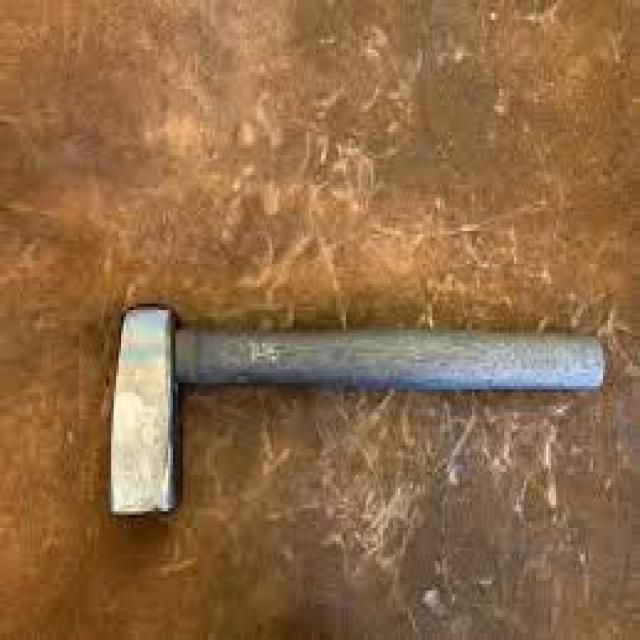hammer: (104, 298, 616, 520)
